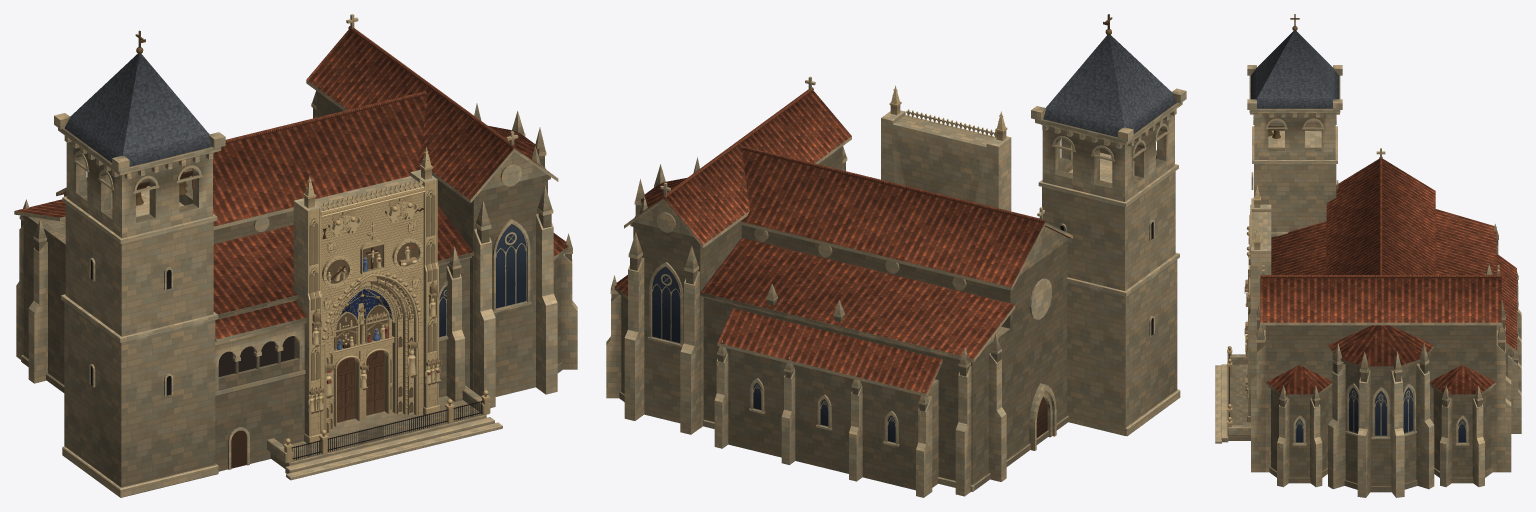
Rendered from santa_maria.glb.
3 views of the same model, side by side, from view 1: azimuth 30°, elevation 25°; view 2: azimuth 150°, elevation 25°; view 3: azimuth 270°, elevation 25° (orthographic). The views are drawn at different scales.
Visible parts, largest first — view 1: santa_maria; view 2: santa_maria; view 3: santa_maria.
Boxes of the visible parts, x1,y1,x2,y2 form: santa_maria: (14, 14, 577, 497); santa_maria: (606, 14, 1186, 497); santa_maria: (1215, 14, 1521, 497).
Size of the model in its own units: 41.52 by 33.5 by 29.2.
5 materials, 4 textured.
